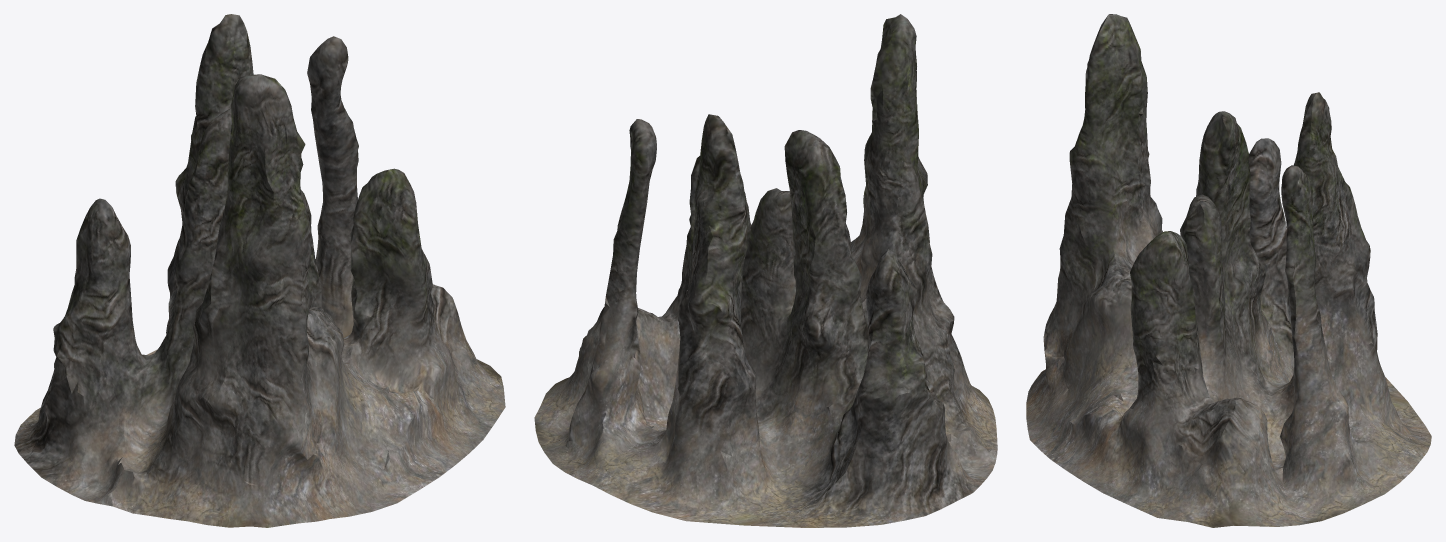
Rendered from StalagmiteA.fbx.
The picture shows the model from 3 angles, left to right: view 1: azimuth 30°, elevation 25°; view 2: azimuth 150°, elevation 25°; view 3: azimuth 270°, elevation 25°; orthographic projection. The views are drawn at different scales.
Visible parts, largest first — view 1: StalagmiteA; view 2: StalagmiteA; view 3: StalagmiteA.
Part boxes in pixels (x1,y1,x2,y2): StalagmiteA: (14,14,505,527); StalagmiteA: (534,14,997,527); StalagmiteA: (1026,14,1431,527).
Bounding box in the file's own units: 400 × 364 × 346.
